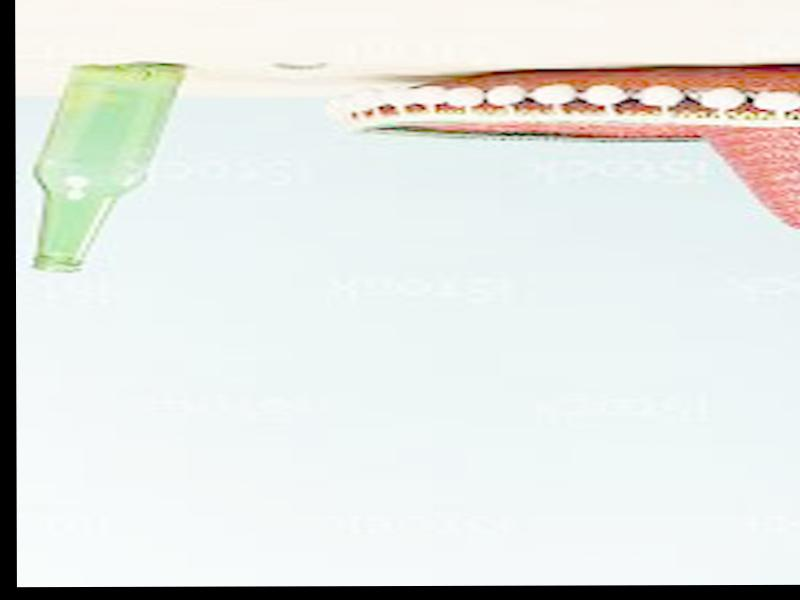Beer: (36, 58, 190, 274)
